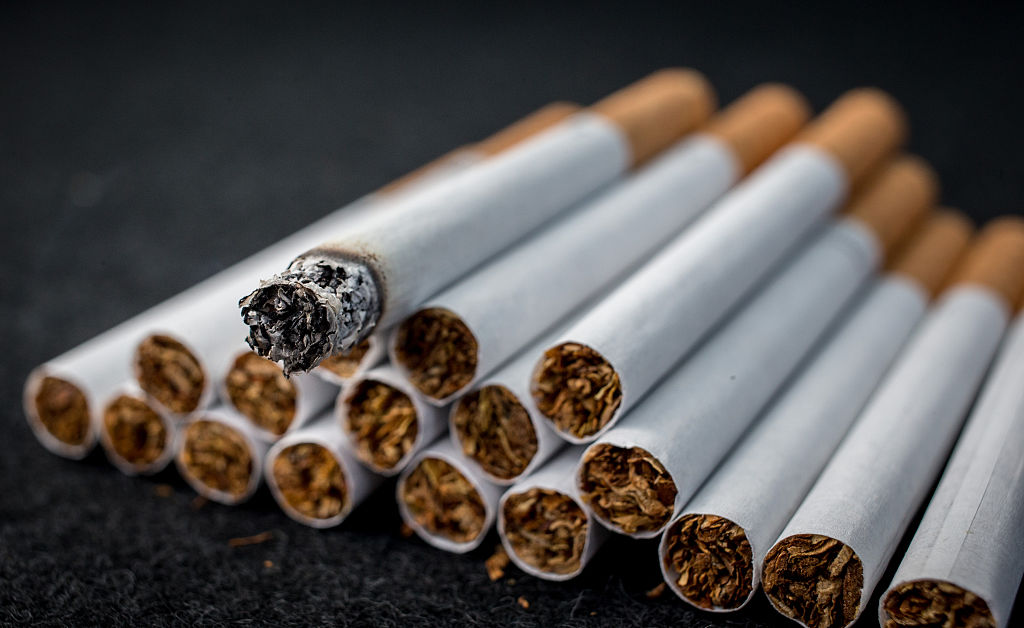cigarette: (258, 42, 707, 367), (535, 62, 897, 451)
